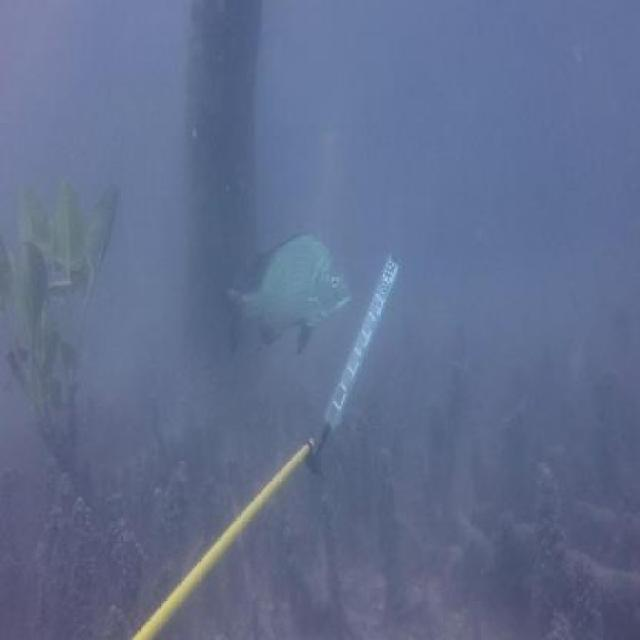acanthopagrus_palmaris: (212, 238, 352, 371)
